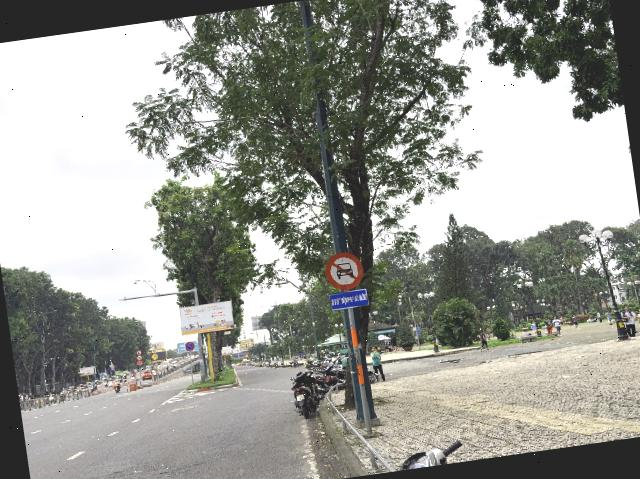cam-o-to: (323, 250, 366, 293)
